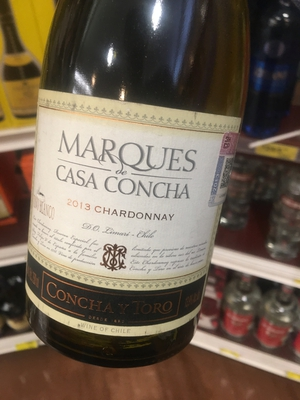marques de casa concha chardonnay: (14, 22, 243, 346)
